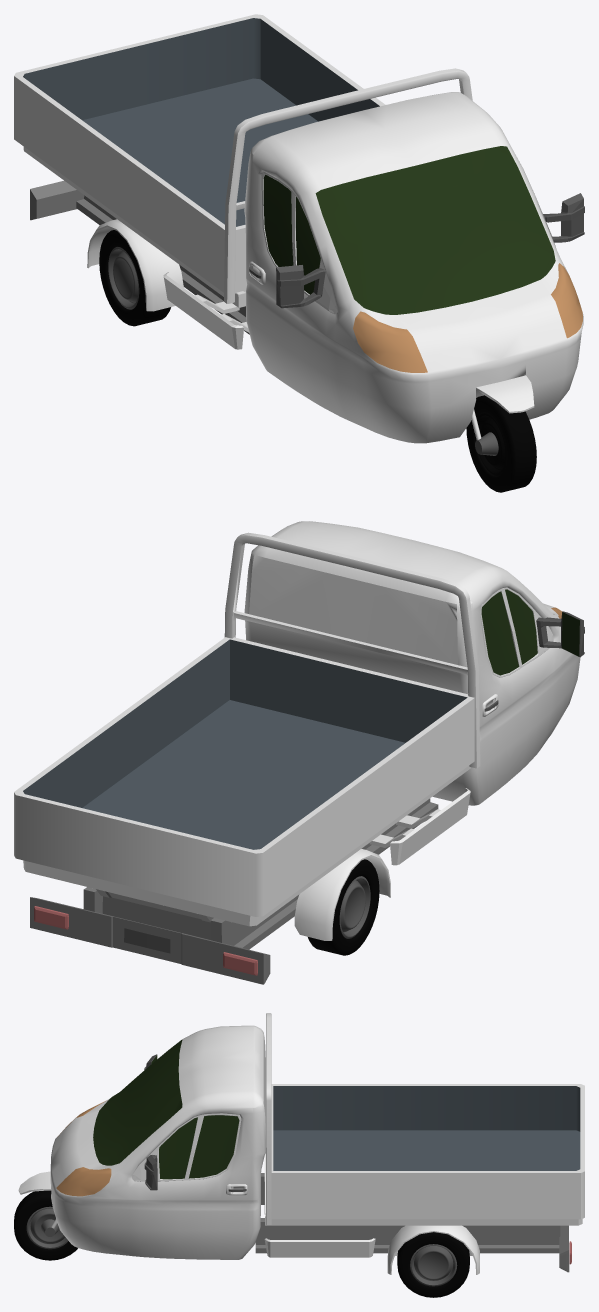
File: car12.glb
The picture shows the model from 3 angles, top to bottom: view 1: azimuth 30°, elevation 25°; view 2: azimuth 150°, elevation 25°; view 3: azimuth 270°, elevation 25°; orthographic projection. The views are drawn at different scales.
Parts seen in each view (by area): view 1: VehicleBody, obj19~Material__32_materialGroup_6, ~01___Default_materialGroup_3, obj18~??_21_materialGroup_5, obj20~??_10_materialGroup_7, obj21~??_2_materialGroup_8, ~14___Default_materialGroup_4; view 2: VehicleBody, ~01___Default_materialGroup_3, obj0~??_19_materialGroup_0, ~14___Default_materialGroup_4, obj19~Material__32_materialGroup_6, obj20~??_10_materialGroup_7, obj18~??_21_materialGroup_5, obj22~??_5_materialGroup_9; view 3: VehicleBody, ~01___Default_materialGroup_3, obj19~Material__32_materialGroup_6, ~14___Default_materialGroup_4, obj18~??_21_materialGroup_5, obj20~??_10_materialGroup_7, obj21~??_2_materialGroup_8.
Boxes of the visible parts, x1,y1,x2,y2 form: VehicleBody: [14, 14, 583, 443]; obj19~Material__32_materialGroup_6: [263, 146, 555, 314]; ~01___Default_materialGroup_3: [23, 18, 379, 226]; obj18~??_21_materialGroup_5: [99, 230, 536, 492]; obj20~??_10_materialGroup_7: [108, 193, 584, 309]; obj21~??_2_materialGroup_8: [353, 263, 582, 372]; ~14___Default_materialGroup_4: [30, 180, 249, 334]; VehicleBody: [14, 521, 580, 940]; ~01___Default_materialGroup_3: [23, 639, 467, 849]; obj0~??_19_materialGroup_0: [249, 555, 457, 664]; ~14___Default_materialGroup_4: [30, 798, 438, 984]; obj19~Material__32_materialGroup_6: [481, 589, 579, 675]; obj20~??_10_materialGroup_7: [124, 611, 584, 953]; obj18~??_21_materialGroup_5: [308, 859, 379, 955]; obj22~??_5_materialGroup_9: [34, 906, 257, 975]; VehicleBody: [18, 1013, 584, 1274]; ~01___Default_materialGroup_3: [273, 1086, 580, 1170]; obj19~Material__32_materialGroup_6: [93, 1040, 239, 1179]; ~14___Default_materialGroup_4: [255, 1173, 569, 1272]; obj18~??_21_materialGroup_5: [14, 1190, 469, 1297]; obj20~??_10_materialGroup_7: [26, 1054, 457, 1286]; obj21~??_2_materialGroup_8: [56, 1101, 111, 1196].
Size of the model in its own units: 2.92 by 2.58 by 6.43.
